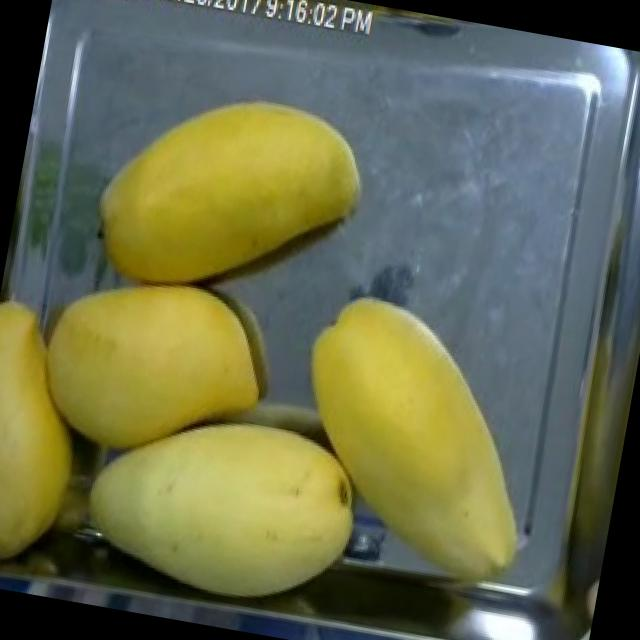fruit: (258, 276, 568, 612), (72, 61, 388, 323), (61, 381, 382, 629), (12, 250, 290, 488), (0, 291, 112, 583)
